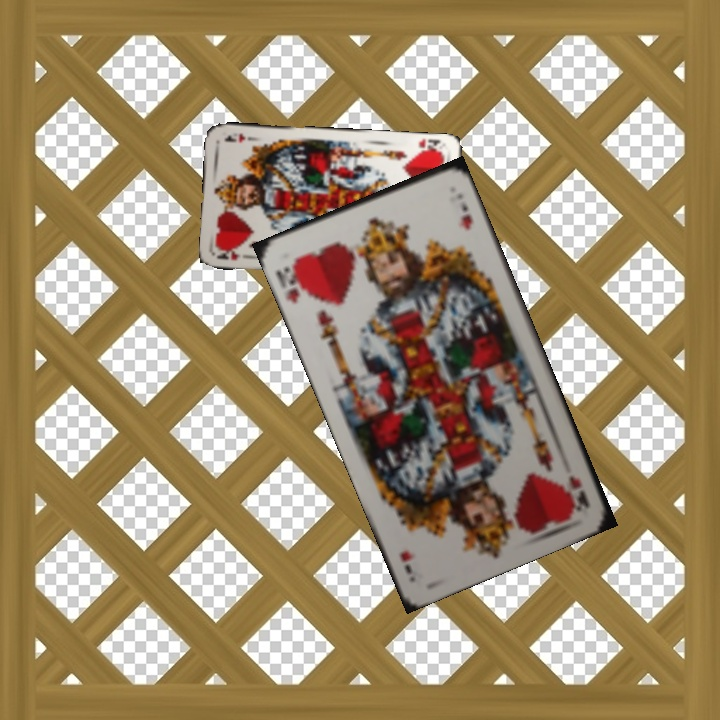HK: (272, 255, 312, 307), (564, 472, 592, 513), (213, 246, 254, 263), (414, 135, 445, 156)
